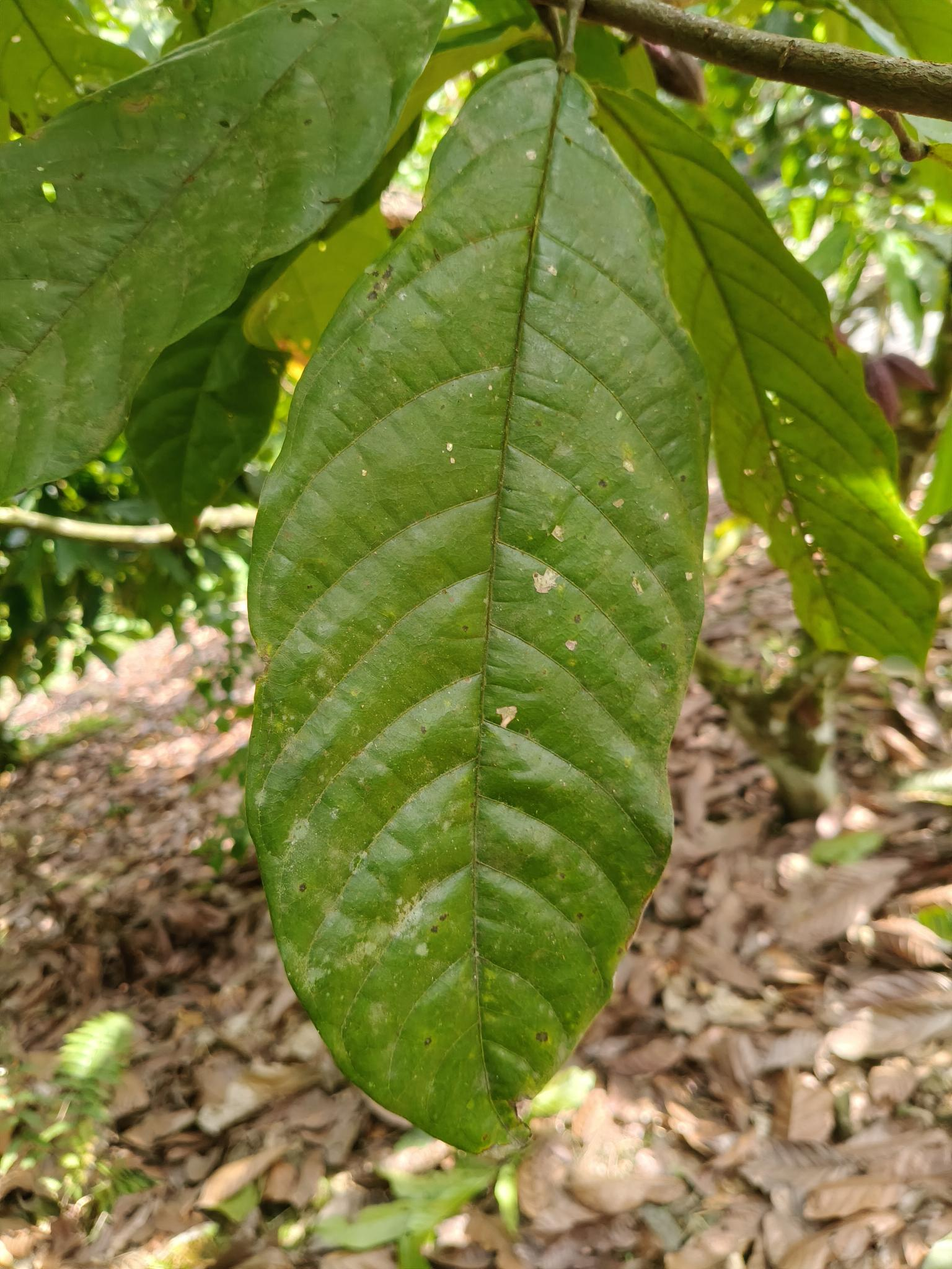Fosforo: (245, 59, 705, 1153)
